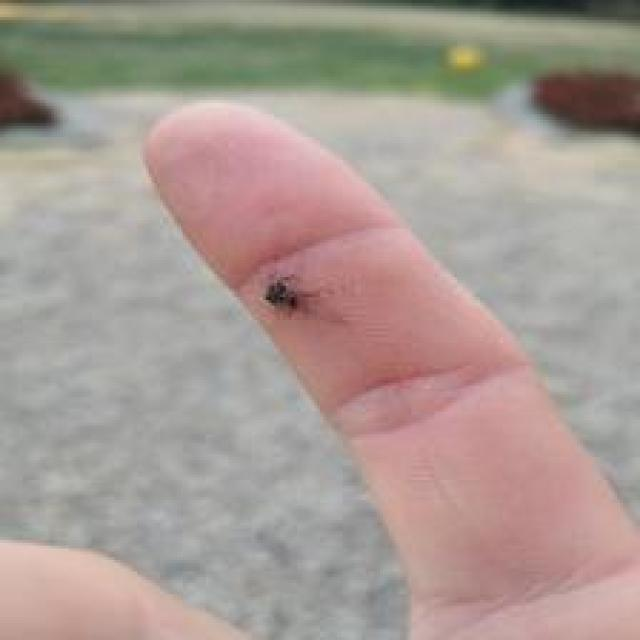Aedes albopictus: (528, 64, 640, 138)
